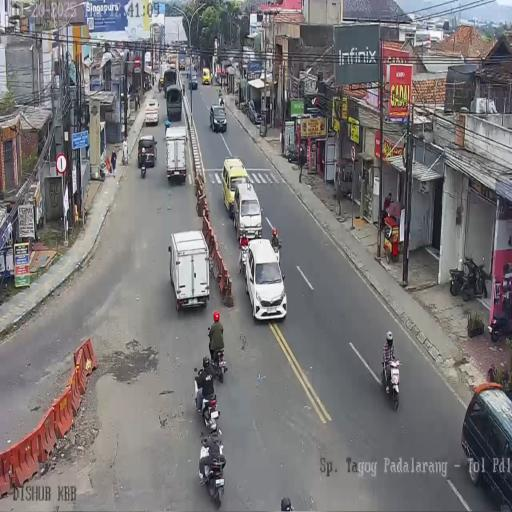3: (165, 125, 187, 184), (163, 68, 177, 98), (144, 52, 151, 74), (178, 52, 186, 71)
car: (461, 381, 512, 509), (243, 238, 286, 322), (168, 230, 210, 312), (221, 157, 249, 218), (209, 104, 227, 133), (144, 98, 160, 126), (247, 99, 263, 125), (202, 67, 211, 85), (190, 69, 198, 89), (169, 54, 177, 70), (152, 63, 160, 73), (164, 60, 171, 70), (186, 68, 191, 78)
truck: (198, 433, 226, 508), (448, 252, 488, 302), (193, 373, 220, 433), (381, 356, 399, 410), (489, 300, 512, 342), (210, 338, 227, 382), (285, 144, 300, 164), (240, 98, 250, 114), (140, 156, 146, 178), (218, 92, 224, 108), (158, 80, 162, 92)
